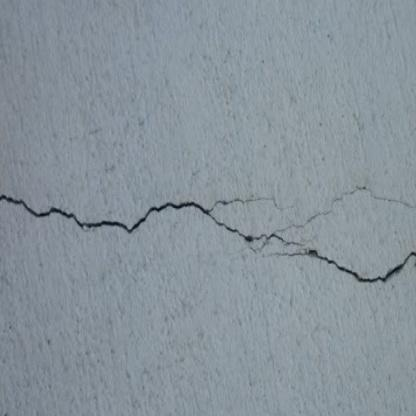Cracks: (0, 183, 416, 287)
